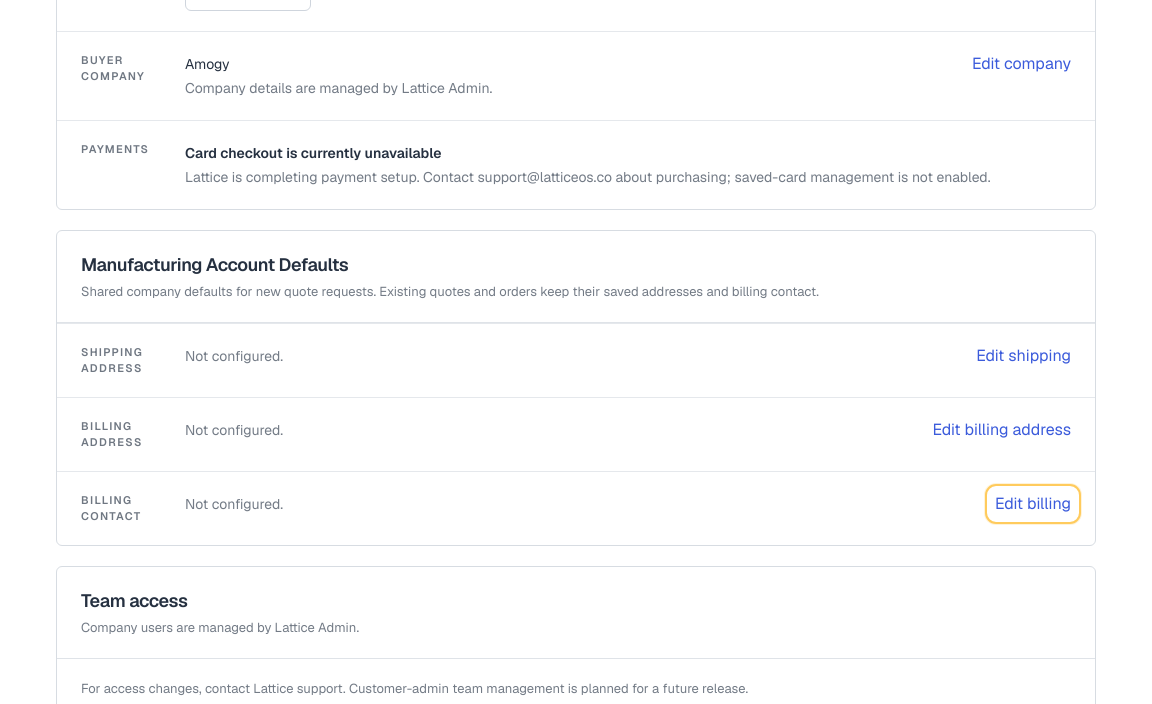
Test: AccountSettingsWorkspace › guides a quote visitor to billing-contact until they open the editor, without saving changes
The width and height of the screenshot is (1152, 704).
(page scrolled)
Expected: the field labelled "Billing email" is not shown
What coordinates should you click on to do the following:
click the button "Edit billing"
I would click on:
 (1033, 504)
Its box is x1=987 y1=486 x2=1079 y2=522.
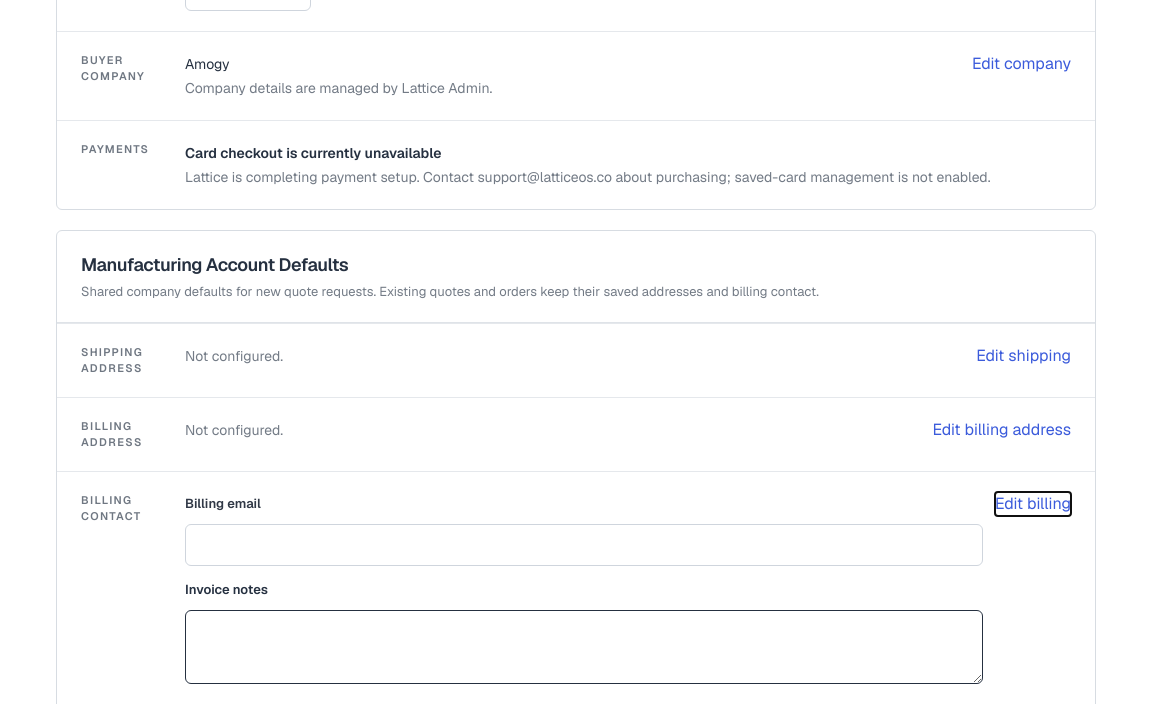
Now the field labelled "Billing email" is shown, box x1=185 y1=524 x2=983 y2=566
